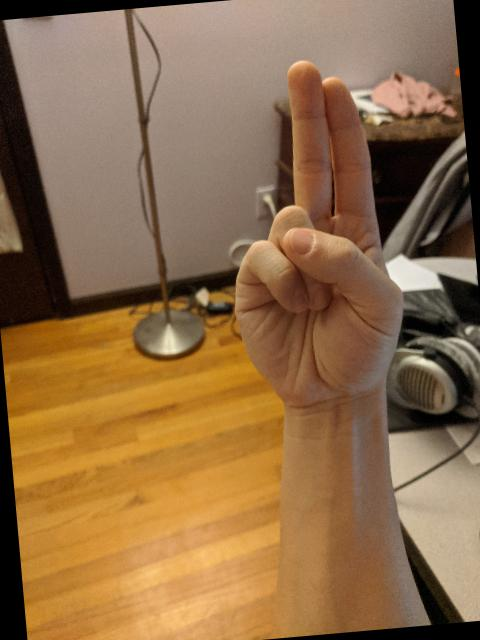U: (208, 46, 417, 416)
